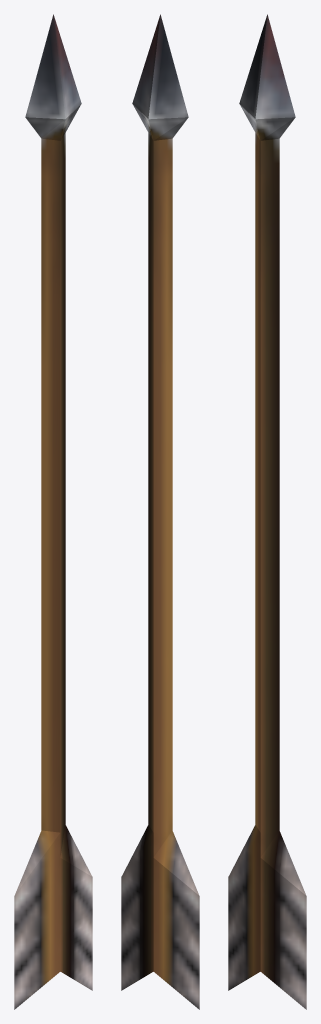
File: ef-common-w4-skill0042_001.FBX
The picture shows the model from 3 angles, left to right: view 1: azimuth 30°, elevation 25°; view 2: azimuth 150°, elevation 25°; view 3: azimuth 330°, elevation 25°; orthographic projection.
Parts seen in each view (by area): view 1: ef-common-w4-skill0042_001; view 2: ef-common-w4-skill0042_001; view 3: ef-common-w4-skill0042_001.
Part boxes in pixels (<box>): ef-common-w4-skill0042_001: <box>14,14,92,1009</box>; ef-common-w4-skill0042_001: <box>121,14,199,1009</box>; ef-common-w4-skill0042_001: <box>228,14,306,1009</box>.
Size of the model in its own units: 6.35 by 76.56 by 3.39.
